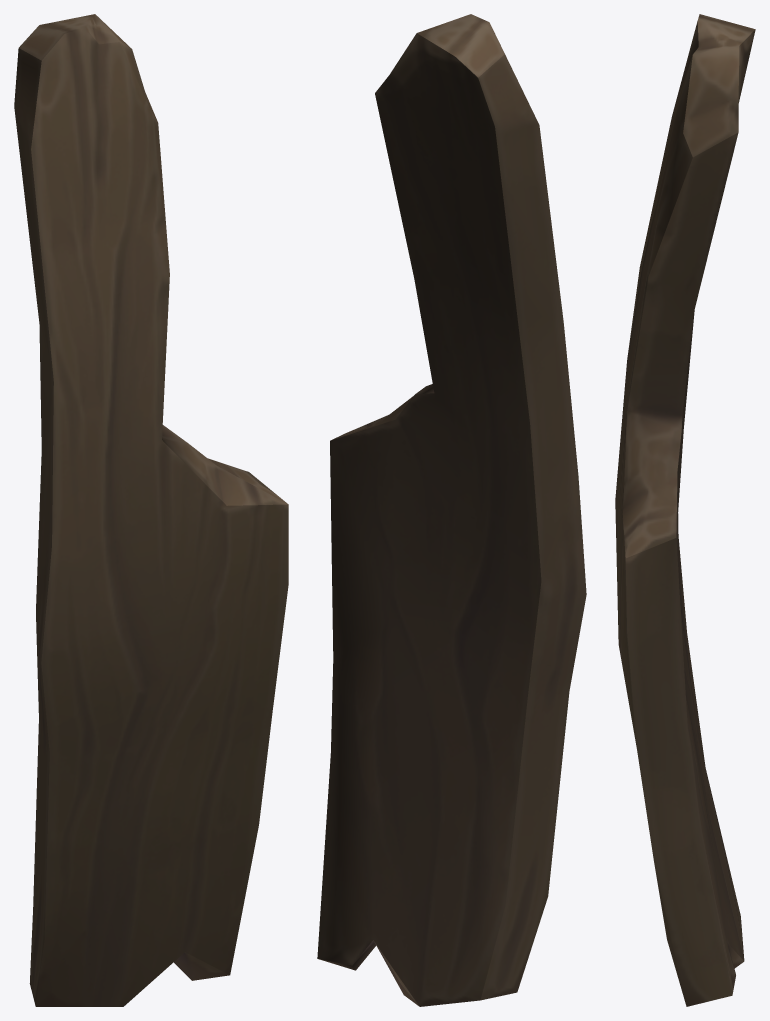
File: SM_FW01_BarrelDebris_04.fbx
The picture shows the model from 3 angles, left to right: view 1: azimuth 30°, elevation 25°; view 2: azimuth 150°, elevation 25°; view 3: azimuth 270°, elevation 25°; orthographic projection. The views are drawn at different scales.
Parts seen in each view (by area): view 1: SM_FW01_BarrelDebris_04_LOD0; view 2: SM_FW01_BarrelDebris_04_LOD0; view 3: SM_FW01_BarrelDebris_04_LOD0.
Part boxes in pixels (left/top/right/bottom): SM_FW01_BarrelDebris_04_LOD0: left=14, top=14, right=288, bottom=1006; SM_FW01_BarrelDebris_04_LOD0: left=317, top=14, right=586, bottom=1006; SM_FW01_BarrelDebris_04_LOD0: left=615, top=14, right=755, bottom=1006.
Size of what is drawn, in the model's own units: 0.2983 by 1.15 by 0.1561.
